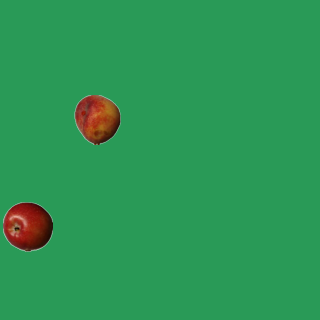Apple Braeburn: (2, 201, 52, 251)
Peach: (72, 94, 122, 144)
